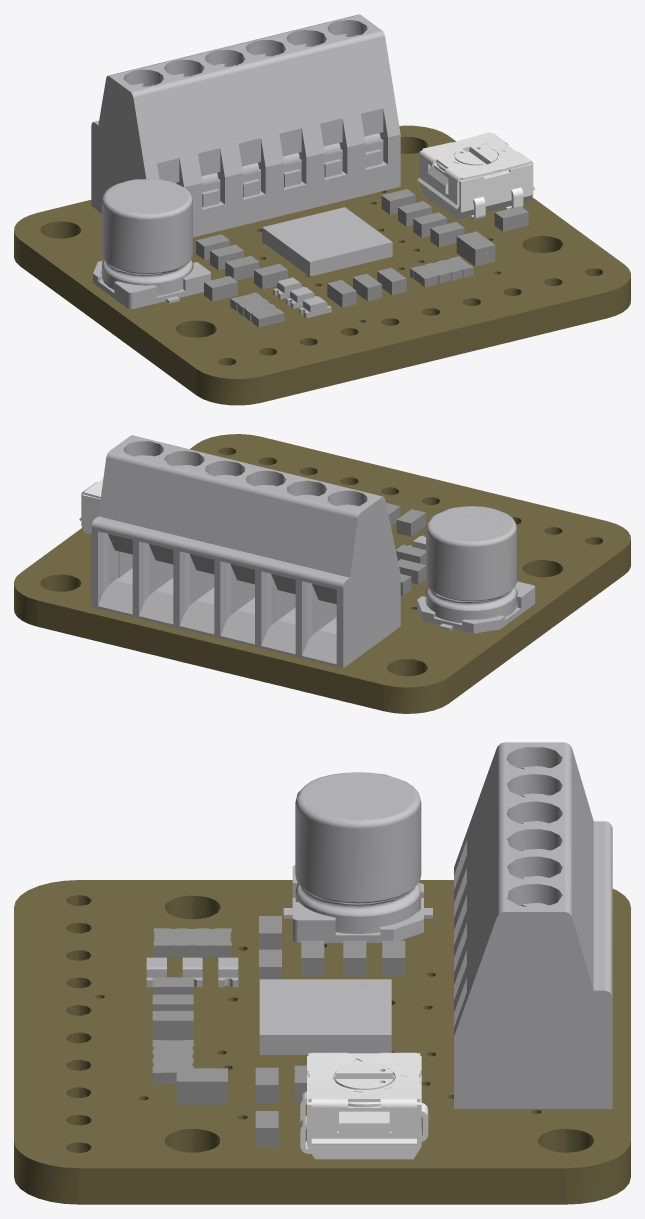
The model's file is ada-6109.glb.
3 views of the same model, one above another, from view 1: azimuth 30°, elevation 25°; view 2: azimuth 150°, elevation 25°; view 3: azimuth 270°, elevation 25° (orthographic). The views are drawn at different scales.
Visible parts, largest first — view 1: 0.5833333333333334_0.5833333333333334_0.5833333333333334_0.8, 0.16666666666666666_0.16666666666666666_0.08333333333333333_, 0.3333333333333333_0.3333333333333333_0.3333333333333333_0, 0.9166666666666666_0.9166666666666666_0.9166666666666666_0.8; view 2: 0.5833333333333334_0.5833333333333334_0.5833333333333334_0.8, 0.16666666666666666_0.16666666666666666_0.08333333333333333_, 0.3333333333333333_0.3333333333333333_0.3333333333333333_0, 0.9166666666666666_0.9166666666666666_0.9166666666666666_0.8; view 3: 0.16666666666666666_0.16666666666666666_0.08333333333333333_, 0.5833333333333334_0.5833333333333334_0.5833333333333334_0.8, 0.3333333333333333_0.3333333333333333_0.3333333333333333_0, 0.9166666666666666_0.9166666666666666_0.9166666666666666_0.8.
Part boxes in pixels (x1,y1,x2,y2): 0.5833333333333334_0.5833333333333334_0.5833333333333334_0.8: (91,14,400,318); 0.16666666666666666_0.16666666666666666_0.08333333333333333_: (14,125,630,405); 0.3333333333333333_0.3333333333333333_0.3333333333333333_0: (196,189,528,327); 0.9166666666666666_0.9166666666666666_0.9166666666666666_0.8: (417,132,535,220); 0.5833333333333334_0.5833333333333334_0.5833333333333334_0.8: (91,435,535,702); 0.16666666666666666_0.16666666666666666_0.08333333333333333_: (14,434,630,713); 0.3333333333333333_0.3333333333333333_0.3333333333333333_0: (386,503,425,595); 0.9166666666666666_0.9166666666666666_0.9166666666666666_0.8: (79,478,103,534); 0.16666666666666666_0.16666666666666666_0.08333333333333333_: (14,880,630,1204); 0.5833333333333334_0.5833333333333334_0.5833333333333334_0.8: (146,742,612,1108); 0.3333333333333333_0.3333333333333333_0.3333333333333333_0: (152,916,405,1146); 0.9166666666666666_0.9166666666666666_0.9166666666666666_0.8: (300,1052,428,1159).
Bounding box in the file's own units: 2.67 × 1.2 × 2.41.
